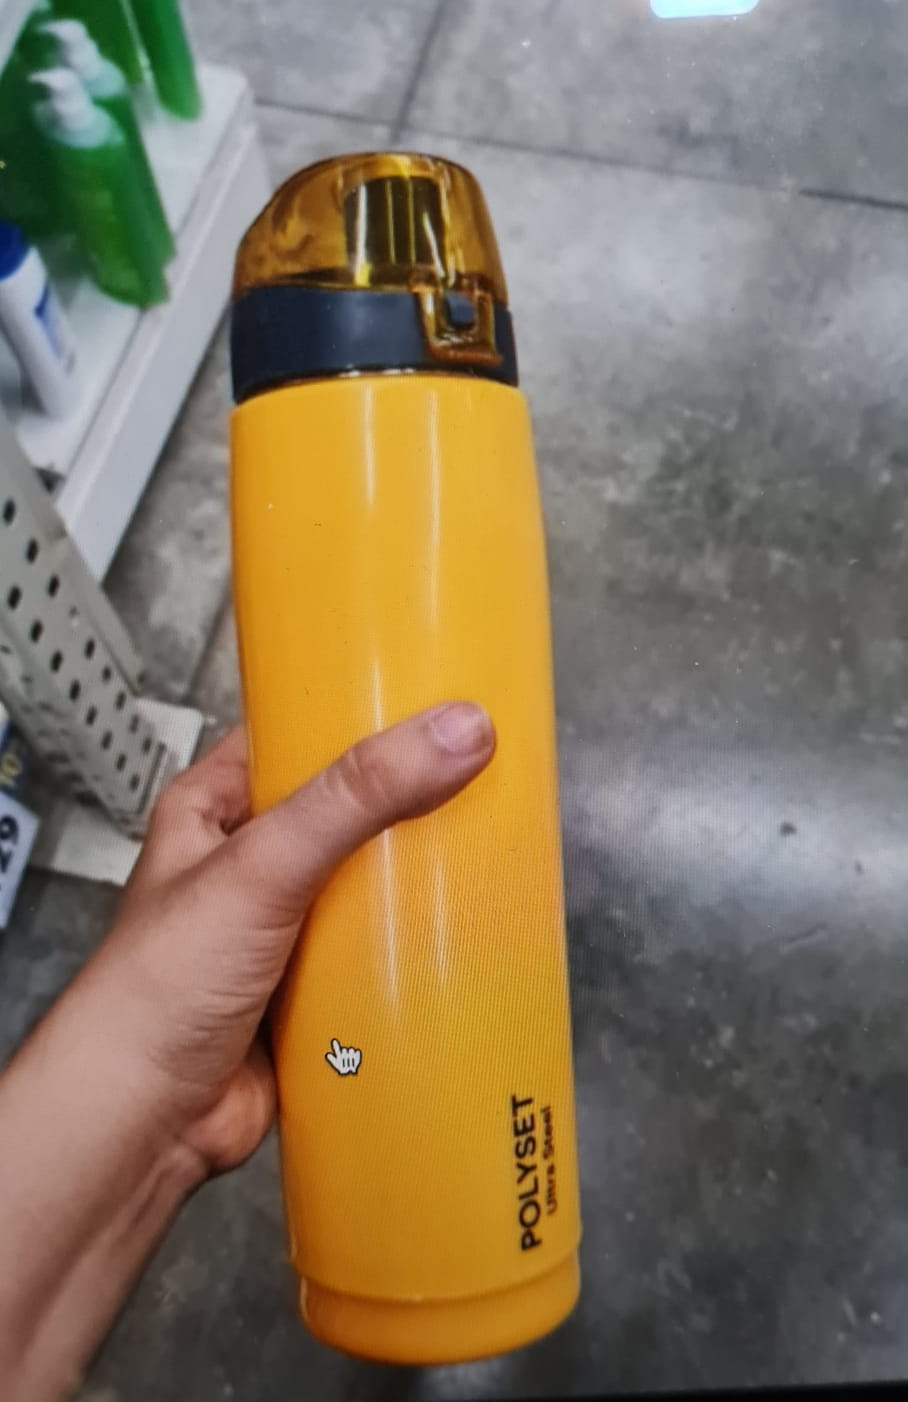bottle: (221, 146, 598, 1381)
